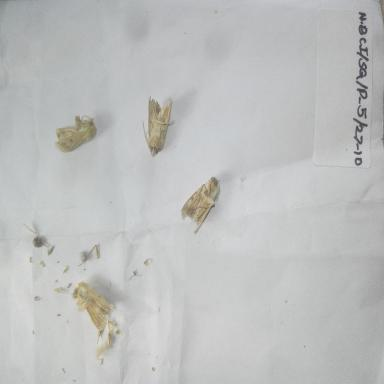abw: (178, 171, 238, 245), (70, 278, 118, 338), (140, 90, 176, 162), (51, 110, 100, 158)
